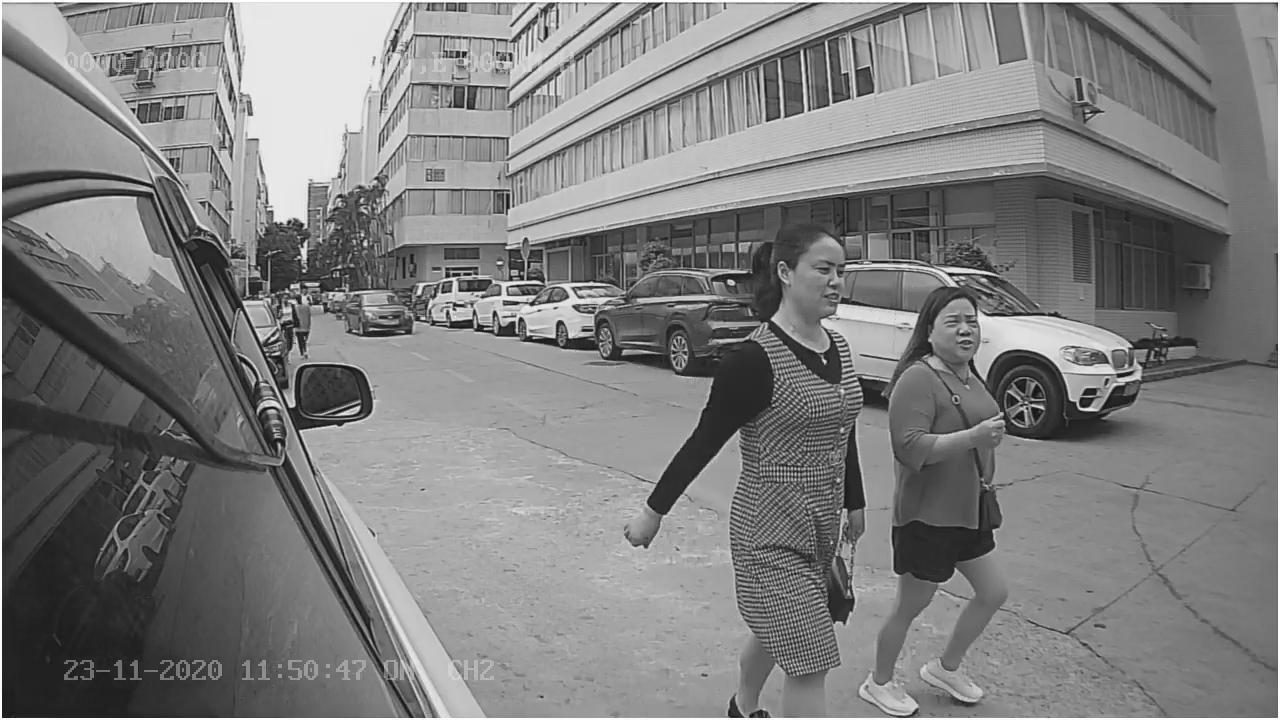person: (857, 279, 1008, 716)
